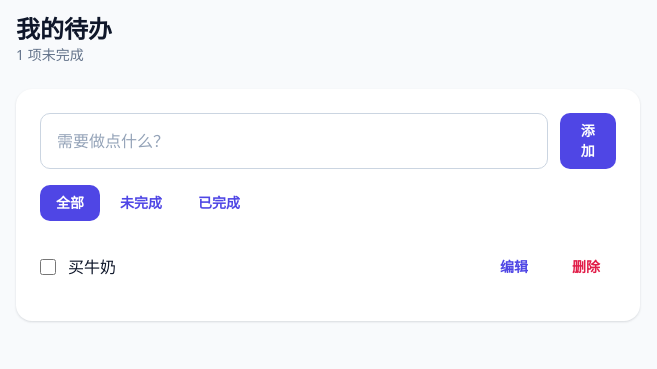
待办管理交互 (todo-management, 第 7 组) › keeps the original title when an edit clears it (7.7)
Expected: the text "买牛奶" is shown, [68, 256, 116, 278]
Click the button "编辑".
click(514, 267)  # box [484, 249, 544, 285]
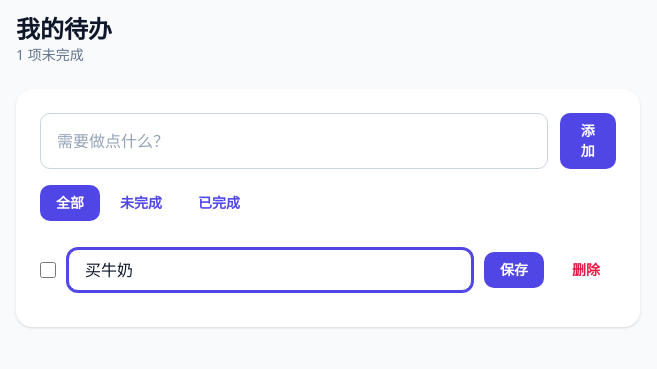
Clear the field named "编辑标题" at (270, 270), box [68, 249, 472, 291]
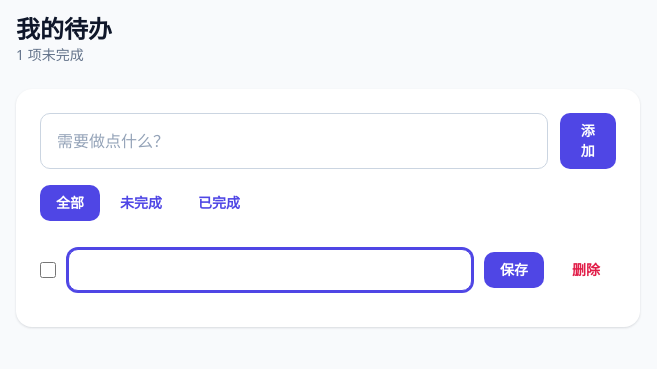
Click the button "保存".
click(514, 270)  # box [484, 252, 544, 288]
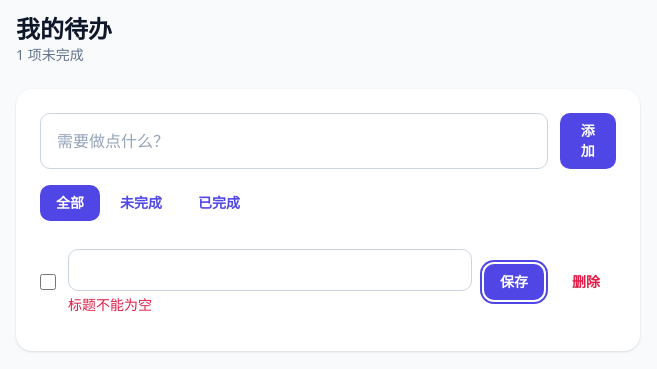
Result: the message reads "标题不能为空" at [68, 295, 152, 314]
